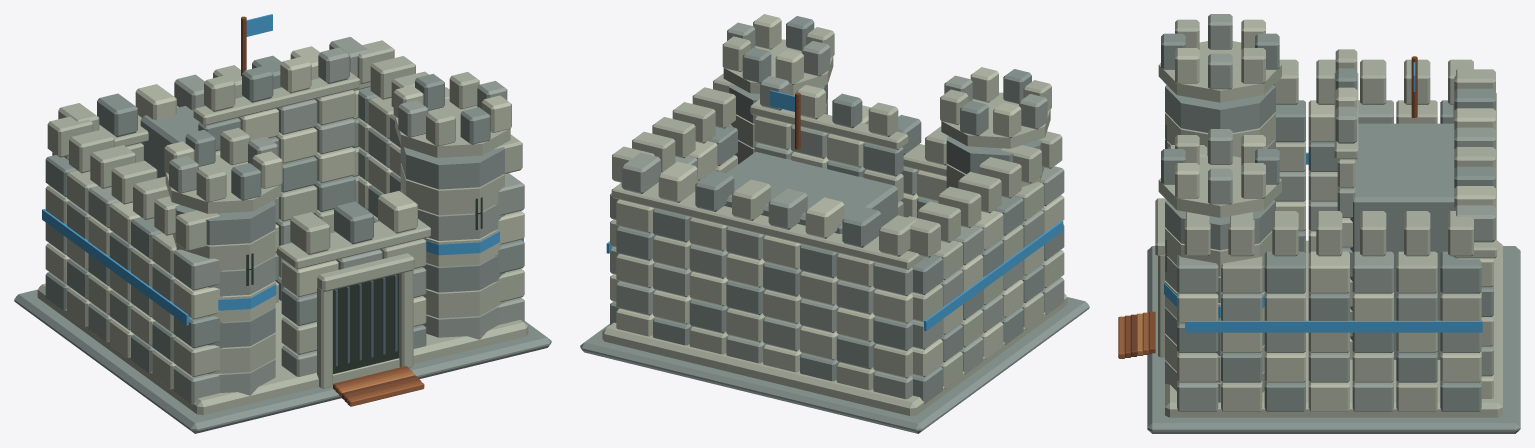
The model's file is fort.glb.
The picture shows the model from 3 angles, left to right: view 1: azimuth 30°, elevation 25°; view 2: azimuth 150°, elevation 25°; view 3: azimuth 270°, elevation 25°; orthographic projection. The views are drawn at different scales.
Visible parts, largest first — view 1: fort game mesh; view 2: fort game mesh; view 3: fort game mesh.
Part boxes in pixels (x1,y1,x2,y2): fort game mesh: [14, 14, 551, 433]; fort game mesh: [580, 14, 1089, 433]; fort game mesh: [1118, 14, 1520, 433].
Size of the model in its own units: 8.5 by 6.3 by 7.97.
